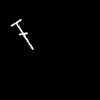double_crochet: (11, 19, 32, 48)
